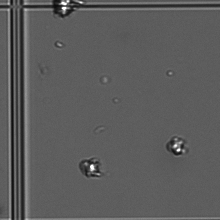Living Cell: (73, 147, 110, 187), (53, 1, 91, 29), (165, 132, 194, 159)
